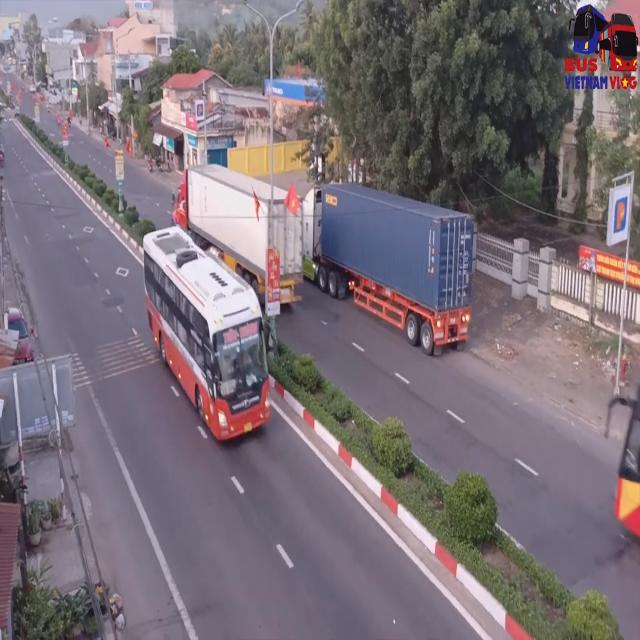bus: (138, 223, 269, 440), (611, 366, 640, 539)
truck: (304, 184, 476, 341), (172, 163, 304, 305)
